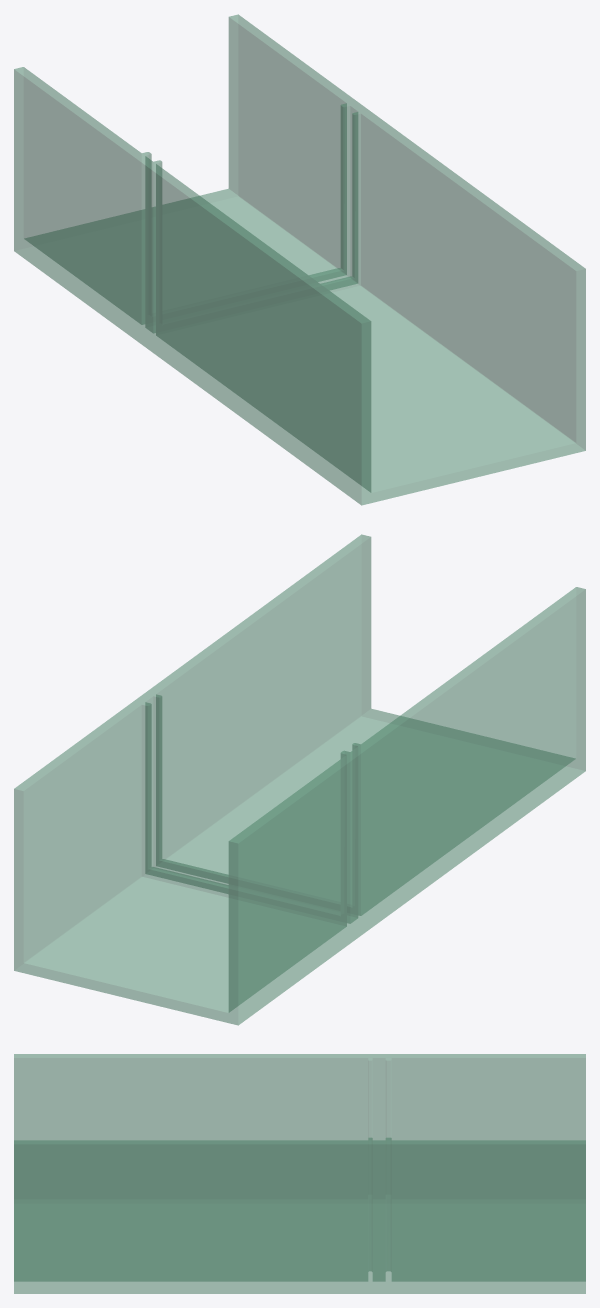
The model's file is suidao.obj.
3 renders of one model, top to bottom at view 1: azimuth 30°, elevation 25°; view 2: azimuth 150°, elevation 25°; view 3: azimuth 270°, elevation 25°, orthographic. The views are drawn at different scales.
Parts seen in each view (by area): view 1: 001; view 2: 001; view 3: 001.
Part boxes in pixels (x1,y1,x2,y2): 001: [14, 14, 585, 505]; 001: [14, 534, 585, 1025]; 001: [14, 1054, 585, 1293].
Size of the model in its own units: 2.32 by 1.8 by 6.22.
